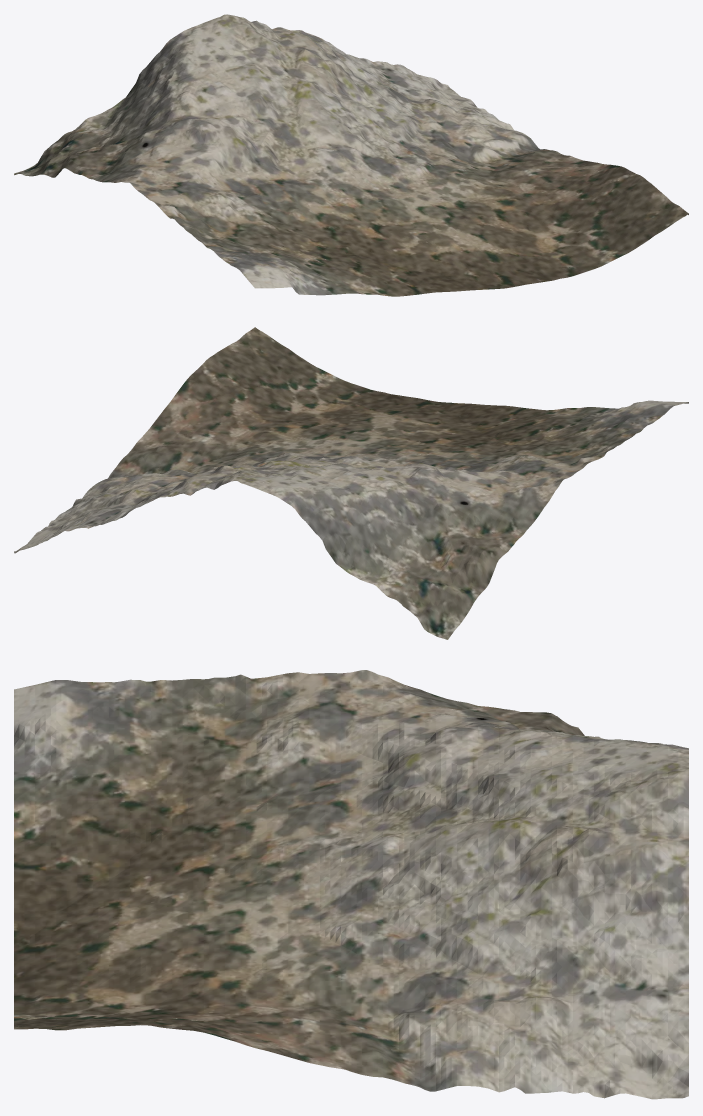
3 views of the same model, one above another, from view 1: azimuth 30°, elevation 25°; view 2: azimuth 150°, elevation 25°; view 3: azimuth 270°, elevation 25° (orthographic). The views are drawn at different scales.
Bounding box in the file's own units: 250 × 70.98 × 241.
1 material, 1 textured.
